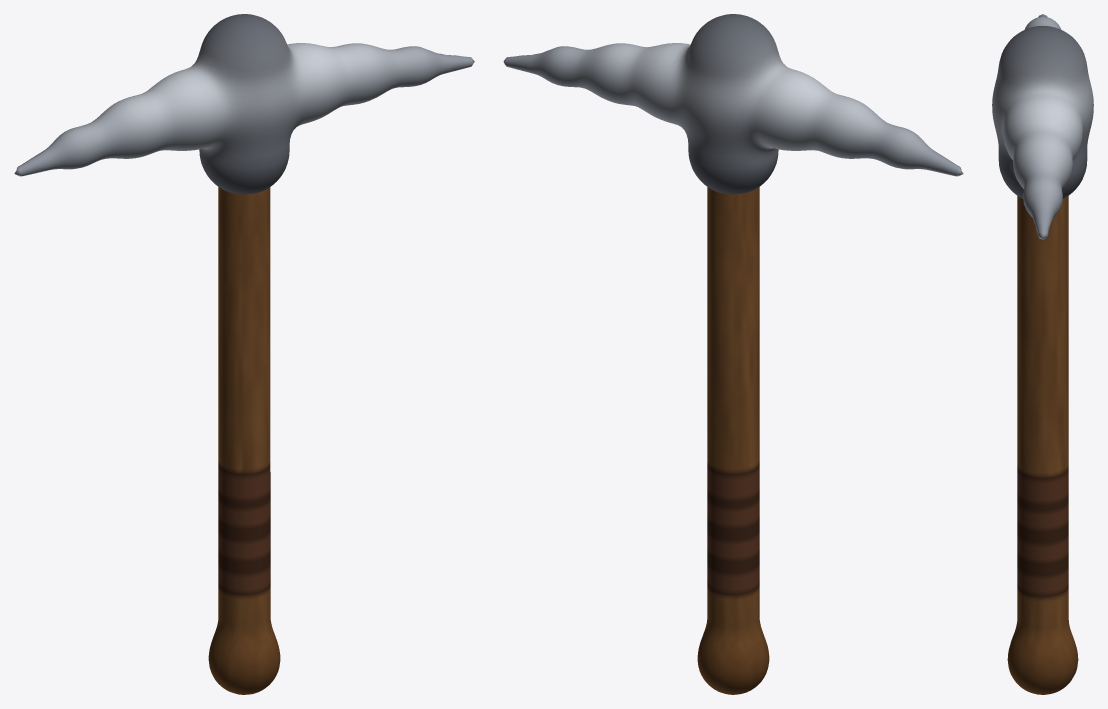
File: pickaxe.glb
3 renders of one model, left to right at view 1: azimuth 30°, elevation 25°; view 2: azimuth 150°, elevation 25°; view 3: azimuth 270°, elevation 25°, orthographic.
Visible parts, largest first — view 1: pickaxe_mesh; view 2: pickaxe_mesh; view 3: pickaxe_mesh.
Boxes of the visible parts, x1,y1,x2,y2 form: pickaxe_mesh: (14, 14, 474, 694); pickaxe_mesh: (503, 14, 963, 694); pickaxe_mesh: (992, 14, 1093, 694).
Bounding box in the file's own units: 0.5299 × 0.7407 × 0.1033.
